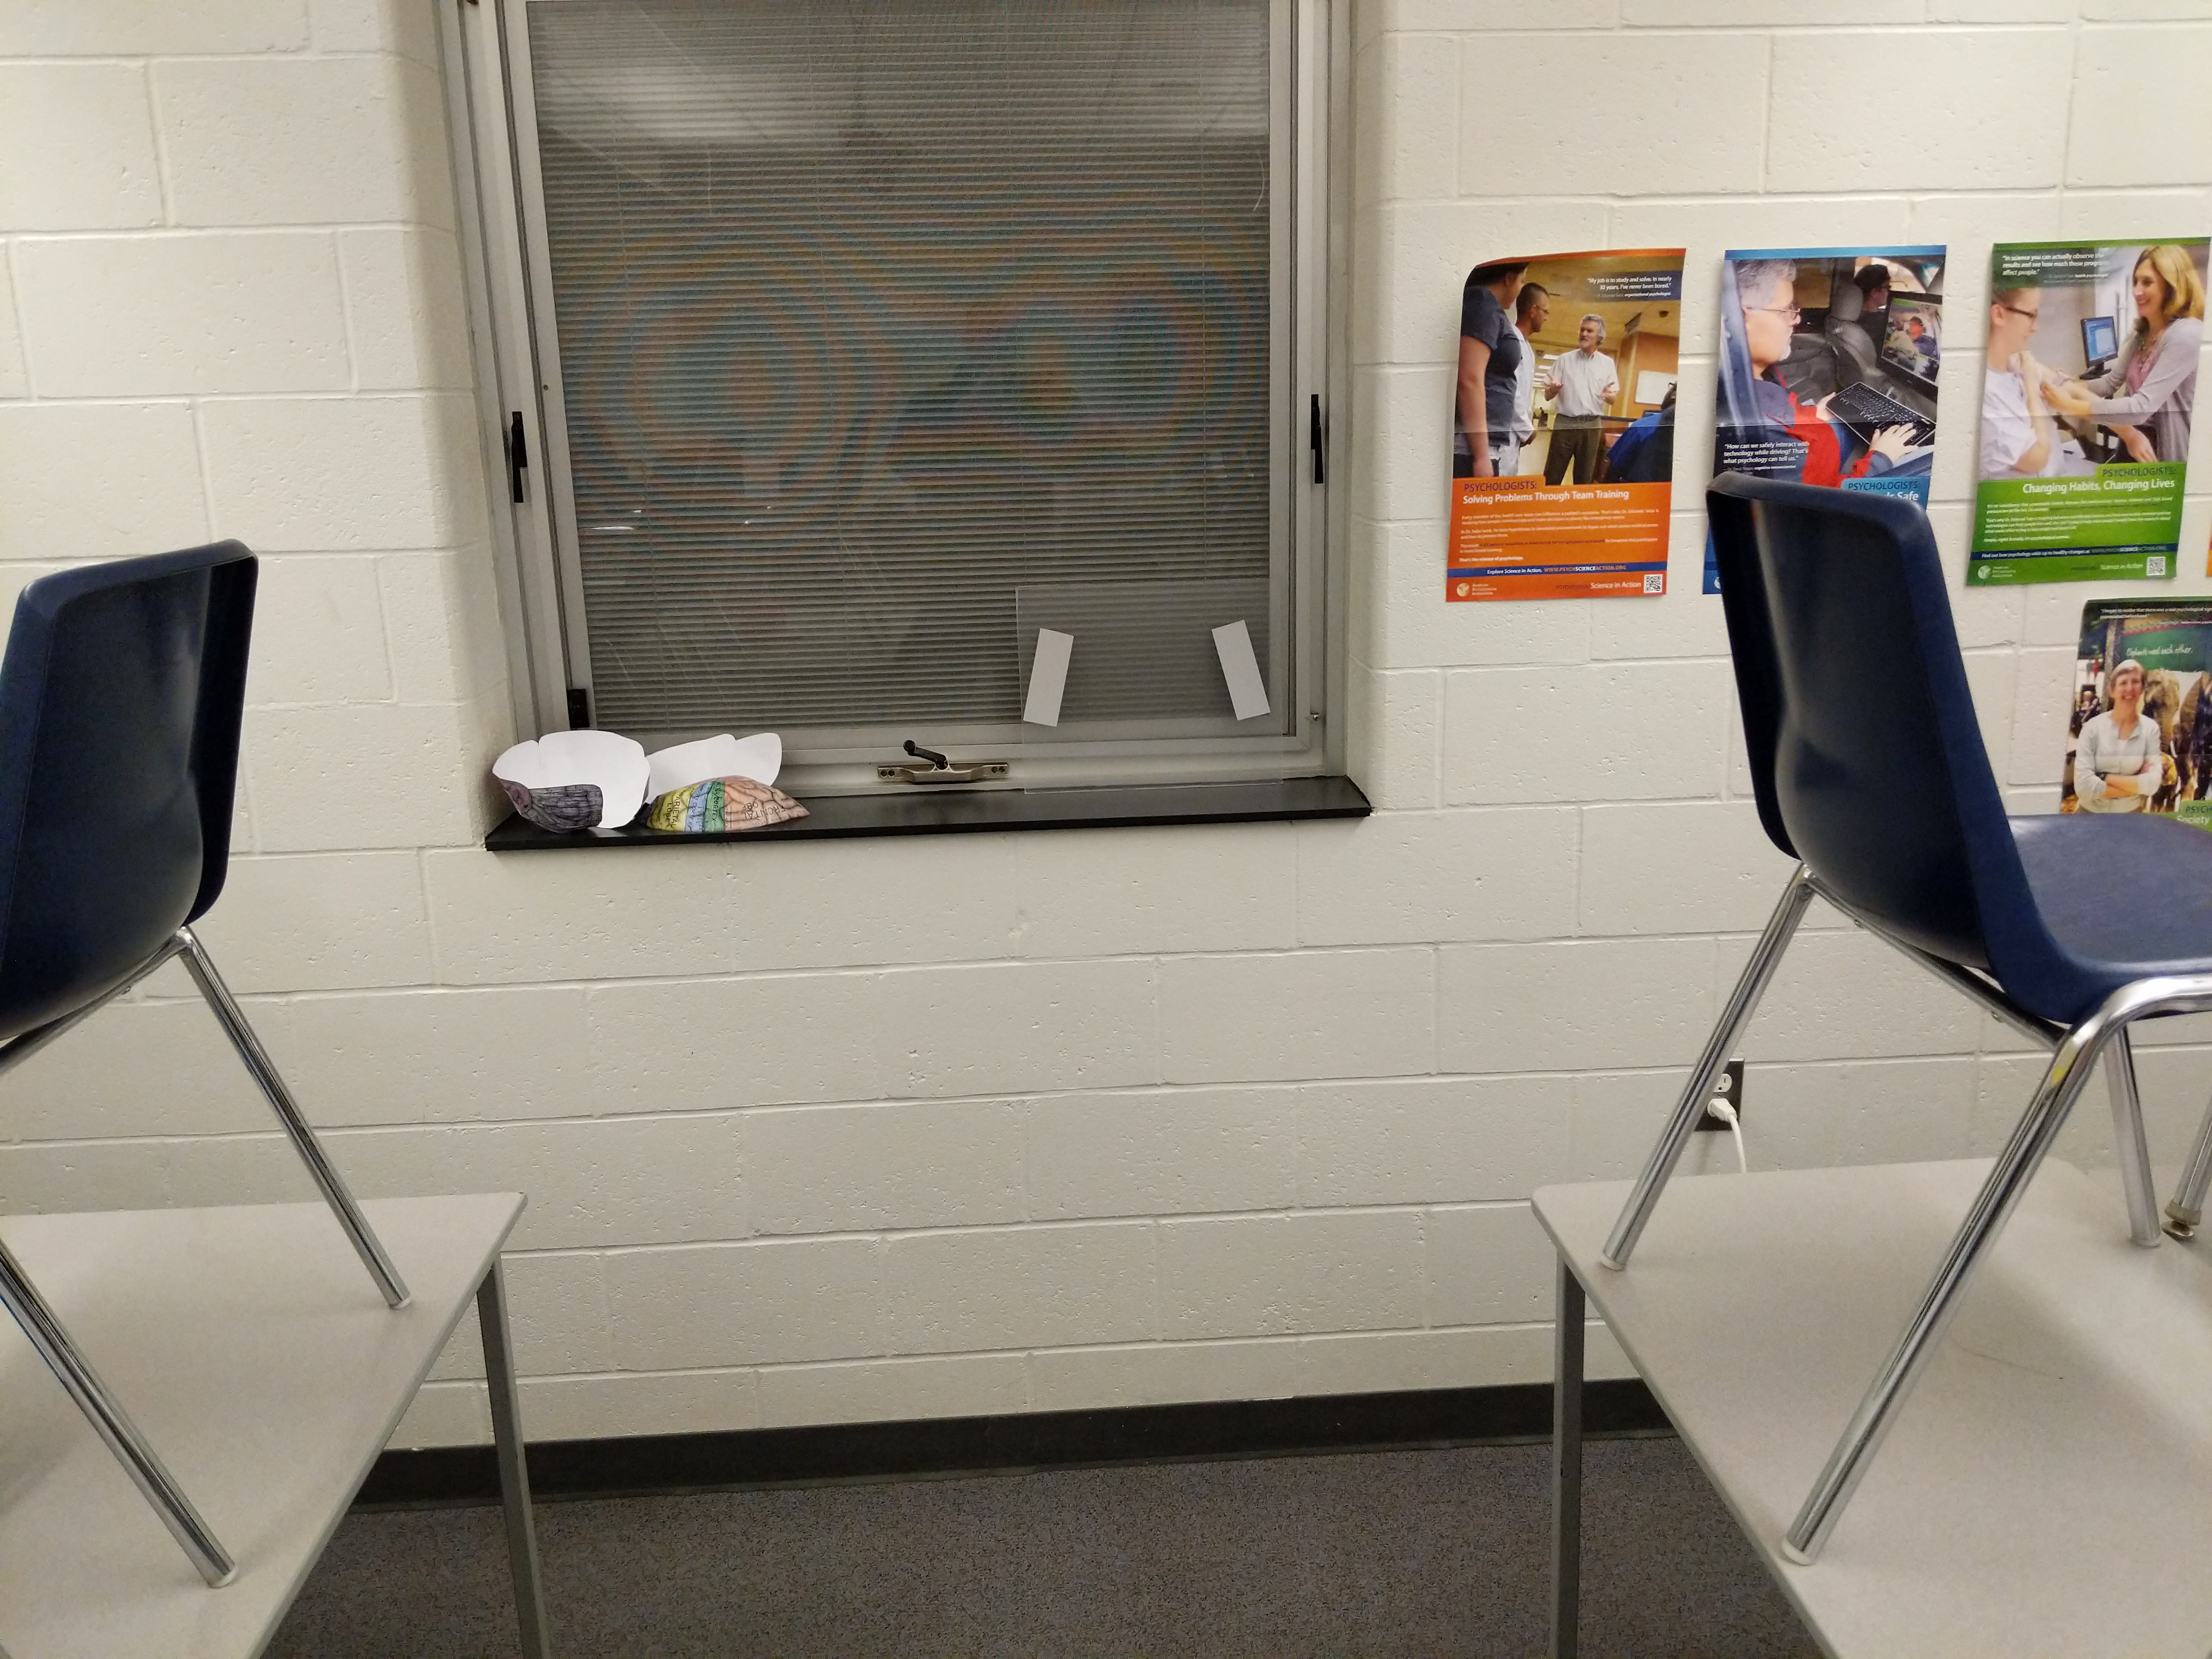vision_target: (1012, 617, 1277, 725)
